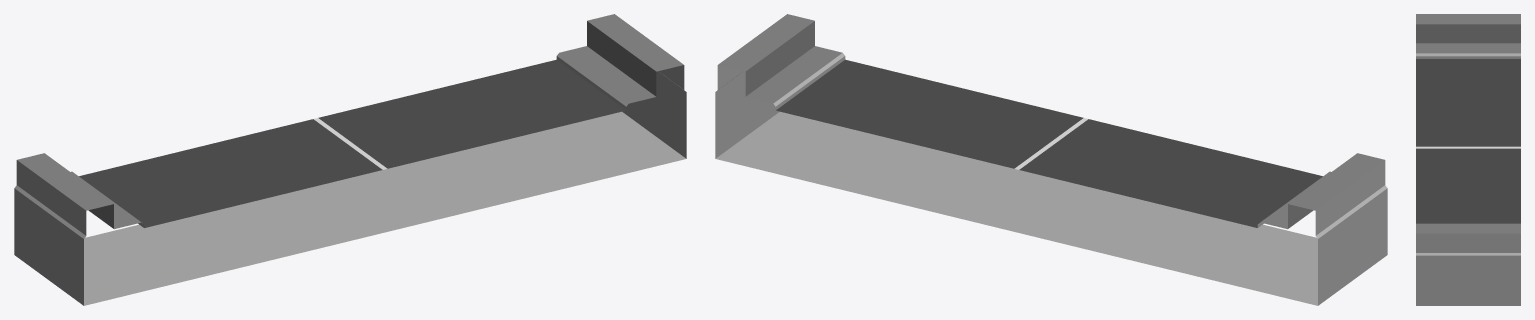
File: straightroad.glb
3 renders of one model, left to right at view 1: azimuth 30°, elevation 25°; view 2: azimuth 150°, elevation 25°; view 3: azimuth 270°, elevation 25°, orthographic. The views are drawn at different scales.
Visible parts, largest first — view 1: Highway_Straight_1_mesh; view 2: Highway_Straight_1_mesh; view 3: Highway_Straight_1_mesh.
Part boxes in pixels (x1,y1,x2,y2): Highway_Straight_1_mesh: (14, 14, 686, 305); Highway_Straight_1_mesh: (715, 14, 1387, 305); Highway_Straight_1_mesh: (1416, 14, 1520, 305).
Bounding box in the file's own units: 25 × 3.75 × 5.
1 material, 1 textured.
